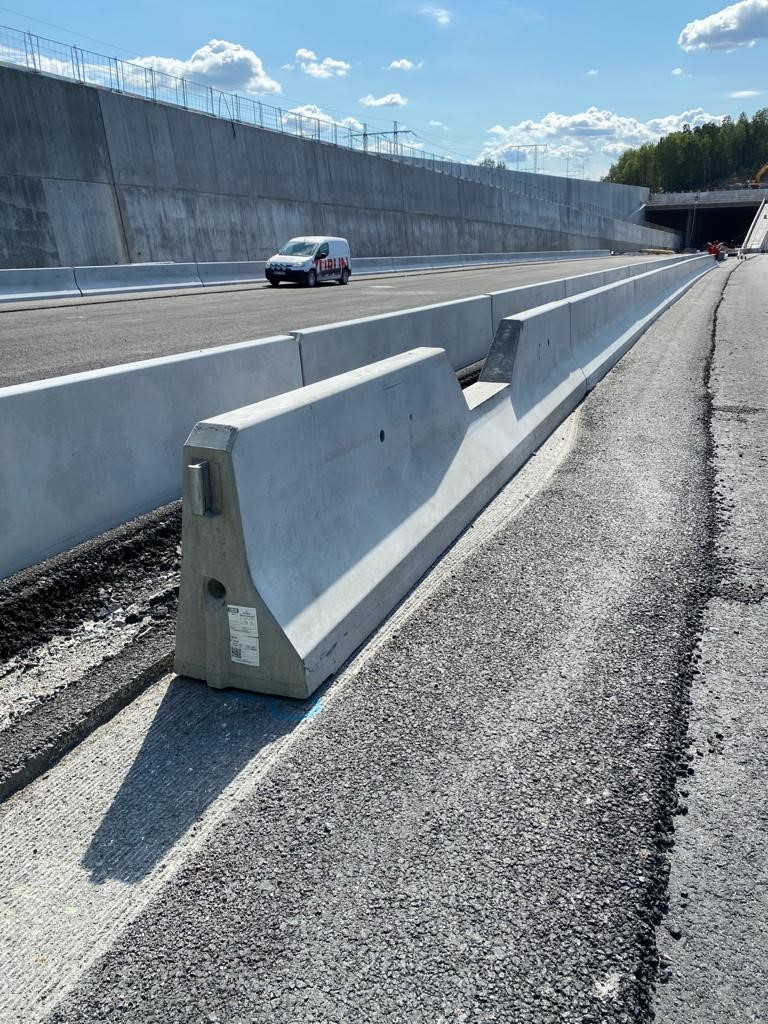Barrier: (151, 297, 641, 695)
Car: (262, 229, 365, 290)
